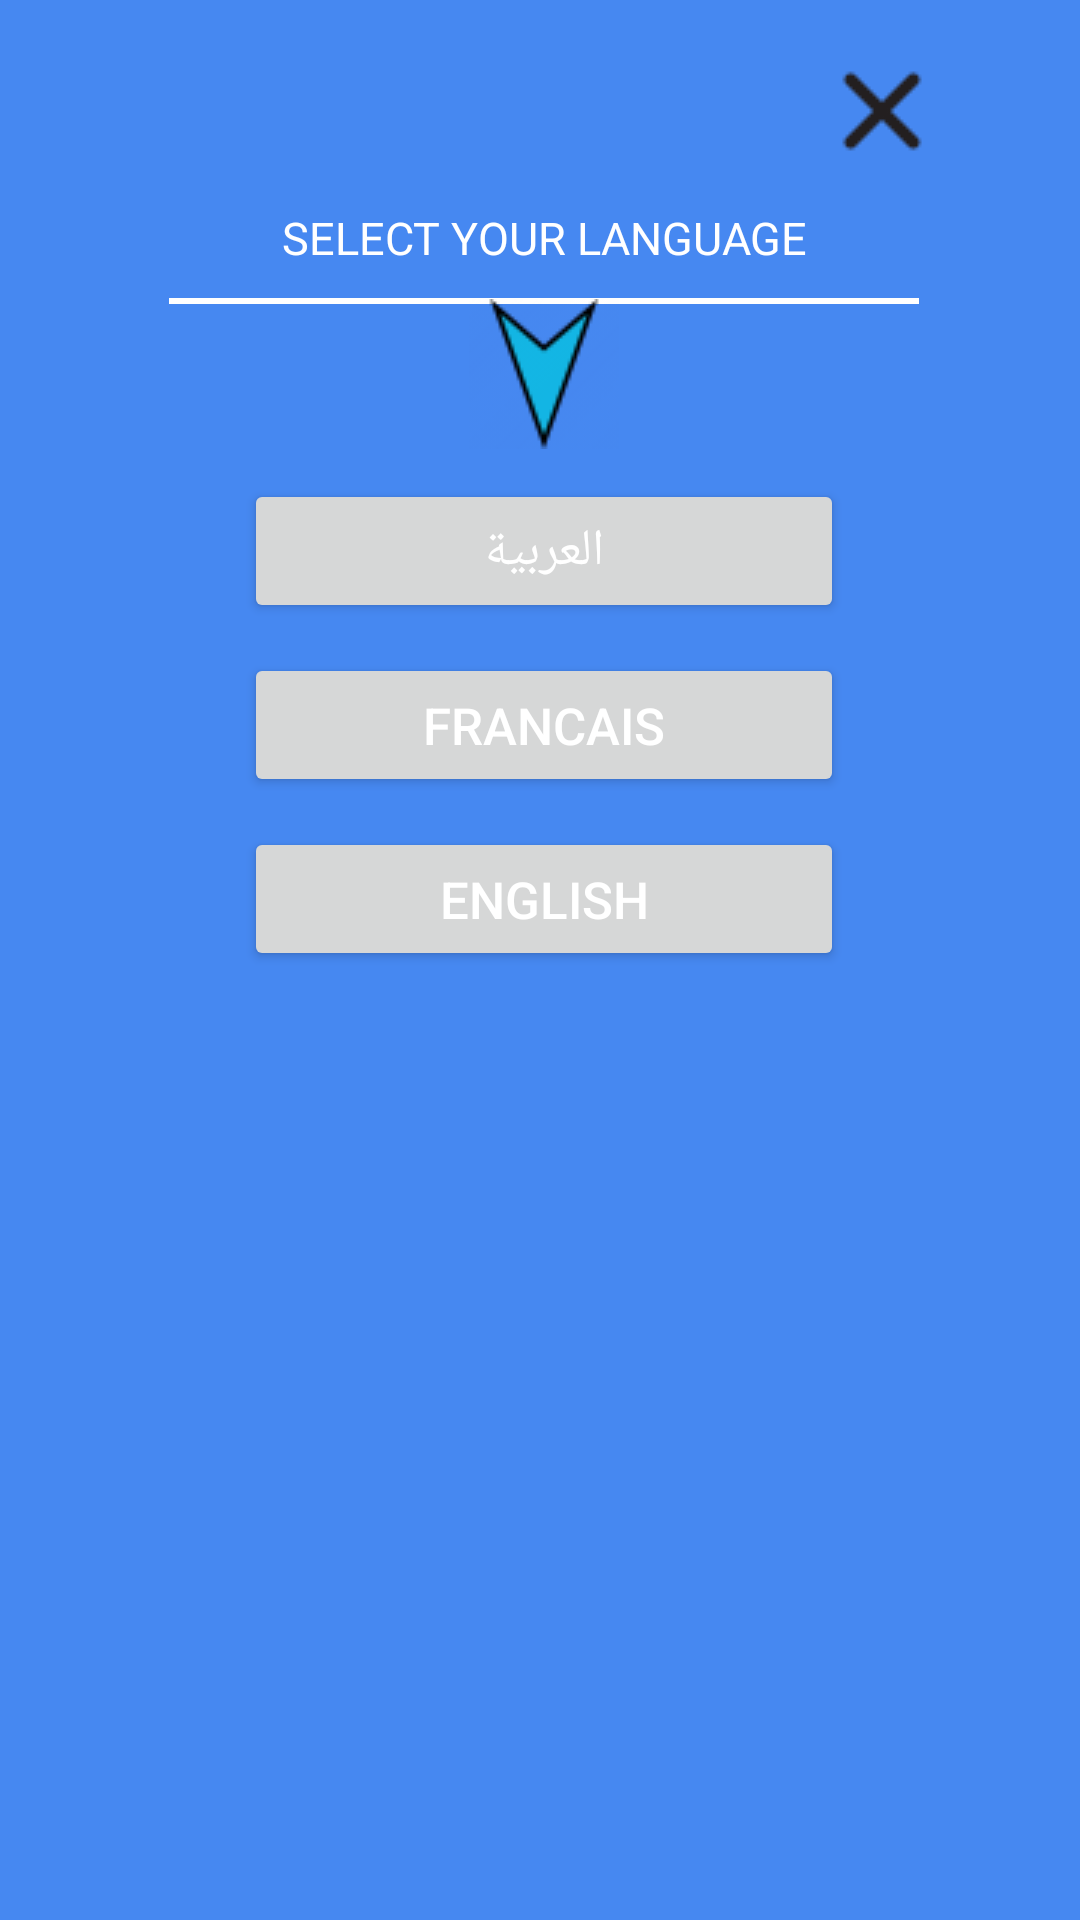

Where to tap for icons on this 1080w x 1920h app screen, as [x,y]:
close: [882,111]
down point: [544,374]
